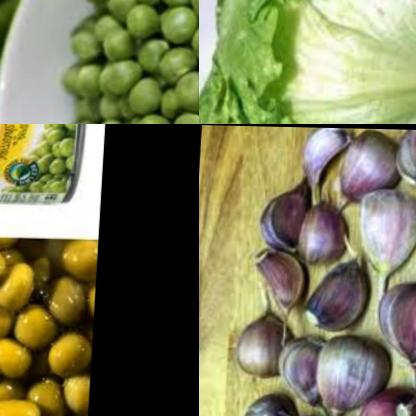garlic: (301, 329, 389, 416), (358, 179, 416, 306), (298, 244, 377, 337), (231, 289, 293, 383), (255, 173, 322, 258), (332, 127, 404, 205), (286, 196, 352, 266), (269, 331, 329, 407), (288, 126, 350, 195), (251, 243, 303, 322), (371, 280, 416, 365), (343, 383, 416, 416), (395, 128, 416, 187)
peas: (18, 0, 199, 124), (0, 239, 99, 416), (8, 124, 77, 202)
salad: (199, 0, 416, 124)
